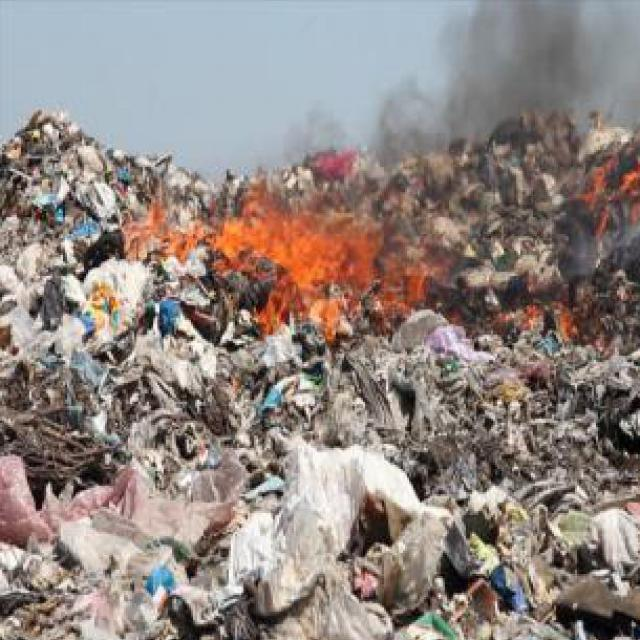fire: (208, 202, 424, 336), (588, 124, 640, 244)
smoke: (252, 1, 594, 200)
